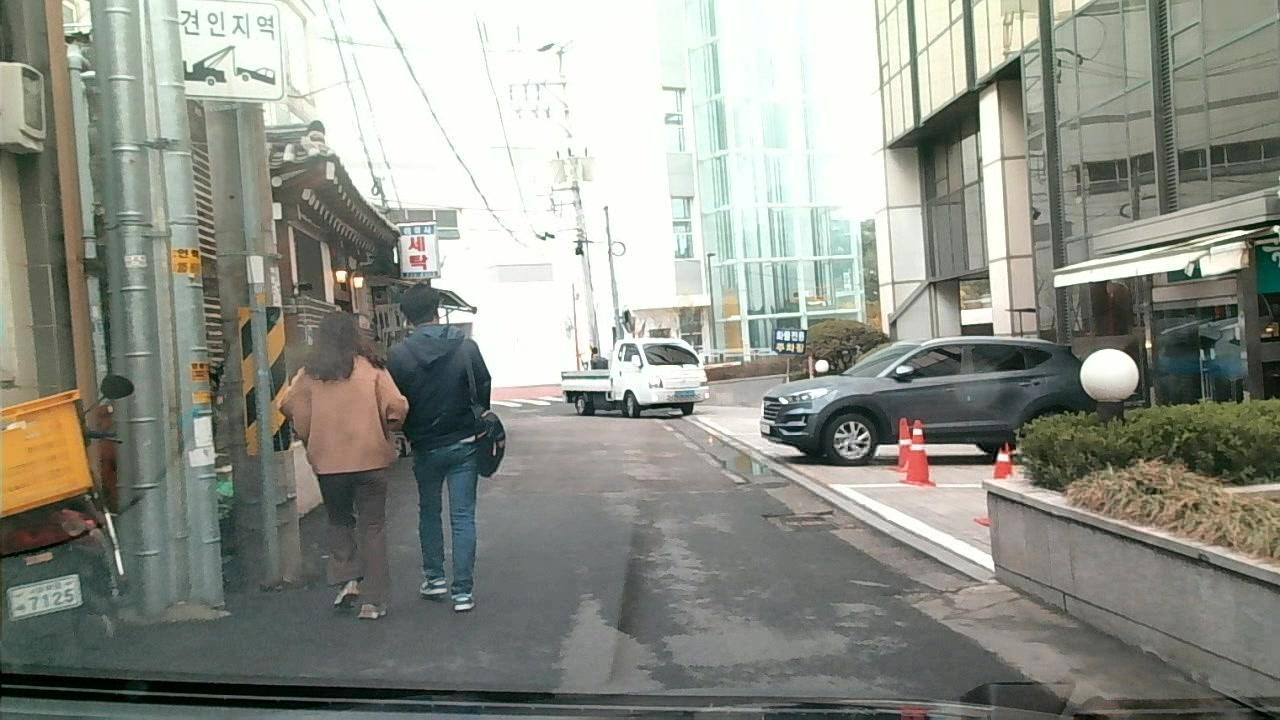hcrack: (891, 578, 988, 597)
vcrack: (899, 600, 994, 653), (998, 659, 1088, 714)
